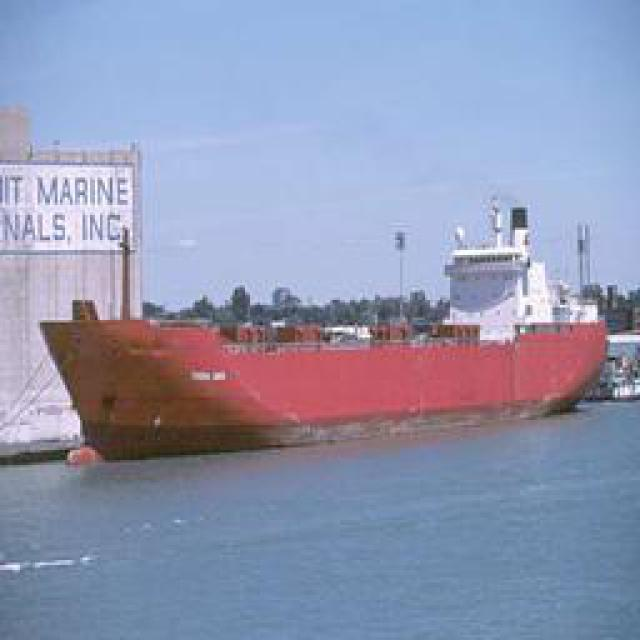Ship: (54, 196, 609, 446)
